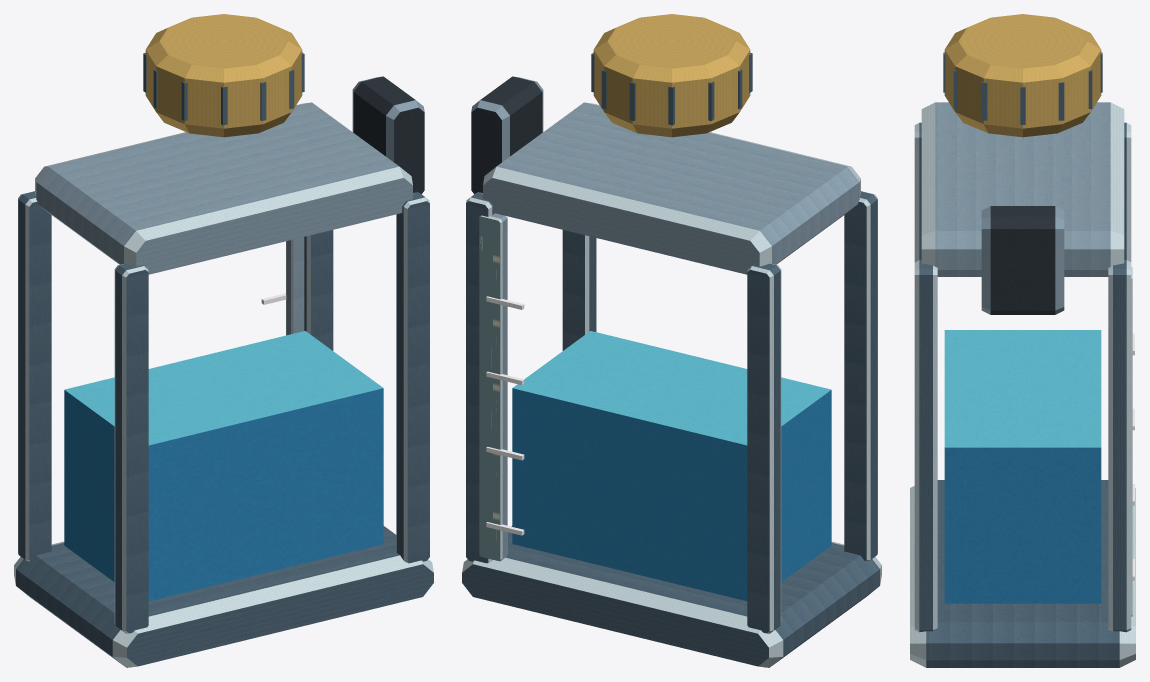
The model's file is water_flask_2.obj.
The picture shows the model from 3 angles, left to right: view 1: azimuth 30°, elevation 25°; view 2: azimuth 150°, elevation 25°; view 3: azimuth 270°, elevation 25°; orthographic projection.
Visible parts, largest first — view 1: water_flask_2; view 2: water_flask_2; view 3: water_flask_2.
Part boxes in pixels (x1,y1,x2,y2): water_flask_2: (14, 14, 433, 667); water_flask_2: (462, 14, 881, 667); water_flask_2: (910, 14, 1135, 667).
Bounding box in the file's own units: 0.5375 × 0.8312 × 0.3062.
